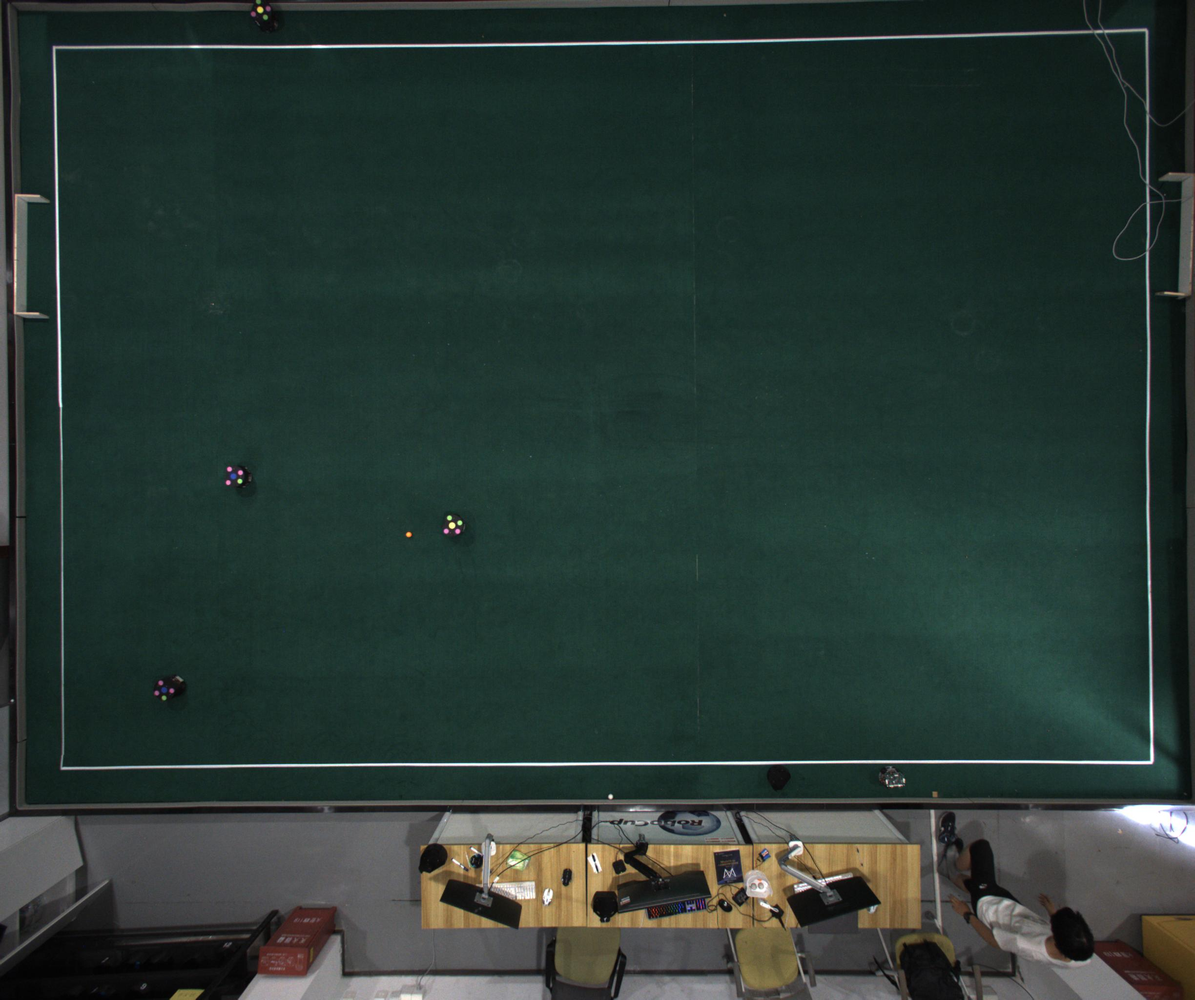ball: (406, 531, 412, 538)
blue_bot: (153, 678, 176, 701), (225, 466, 245, 486)
yellow_bot: (249, 0, 273, 23), (442, 514, 463, 537)
